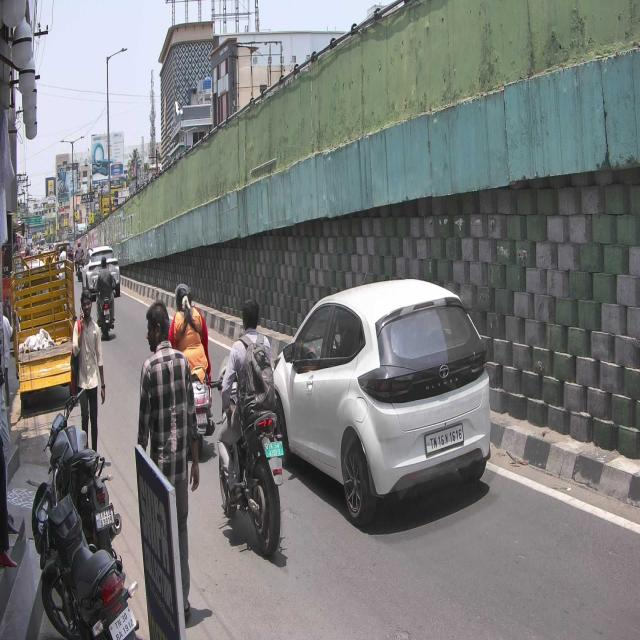single_rider: (209, 295, 285, 560)
